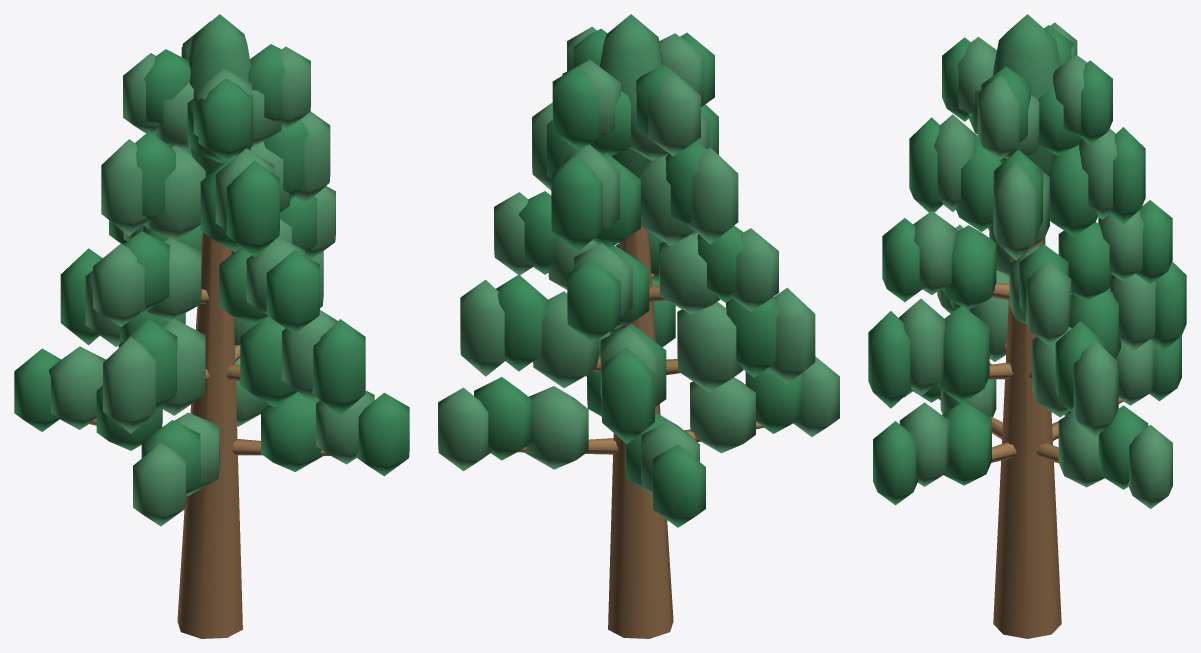
File: tree_conifer_03.glb
3 renders of one model, left to right at view 1: azimuth 30°, elevation 25°; view 2: azimuth 150°, elevation 25°; view 3: azimuth 270°, elevation 25°, orthographic.
Size of the model in its own units: 0.5294 by 1.09 by 0.5113.
